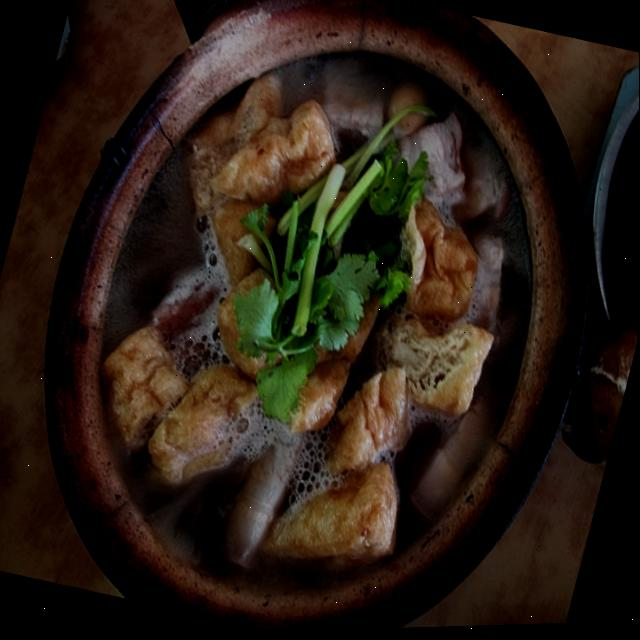汤锅炖物: (17, 0, 612, 640)
